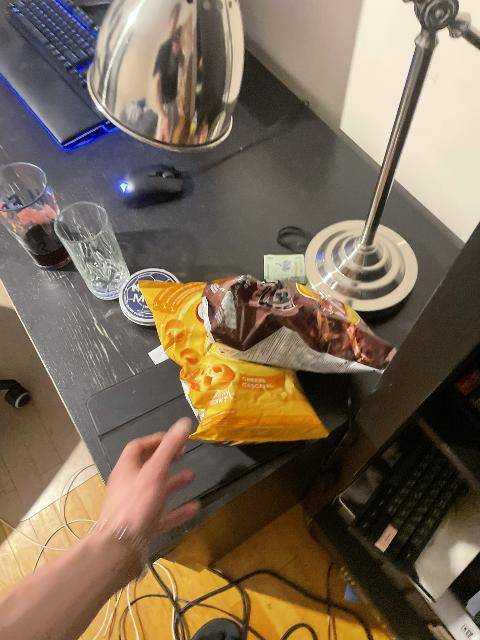Chio Hula Hoops Cheese 70g: (139, 280, 332, 440)
Lays Beef Grilled Ribs 125g: (202, 275, 395, 376)
